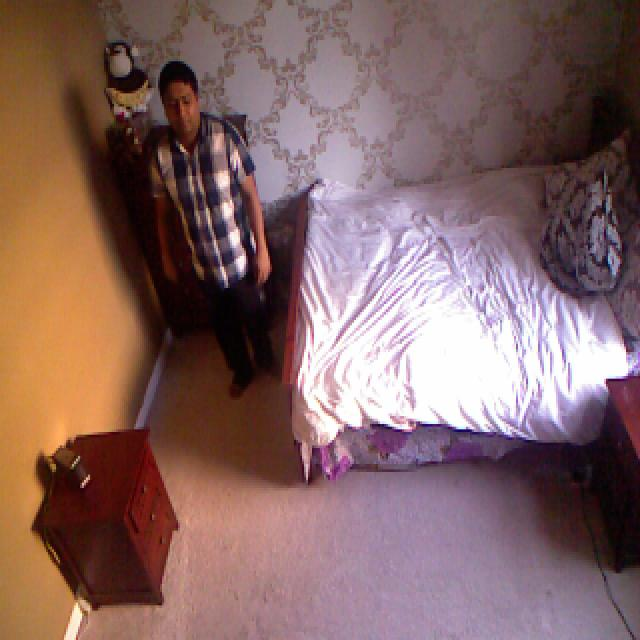standing: (141, 59, 284, 402)
